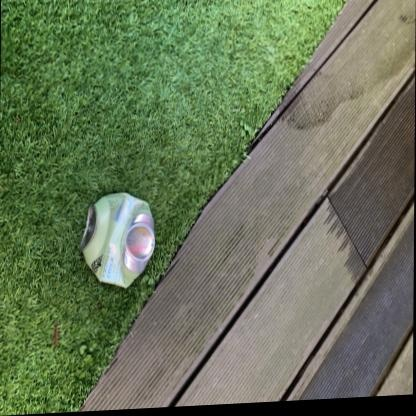trash: (81, 193, 154, 287)
